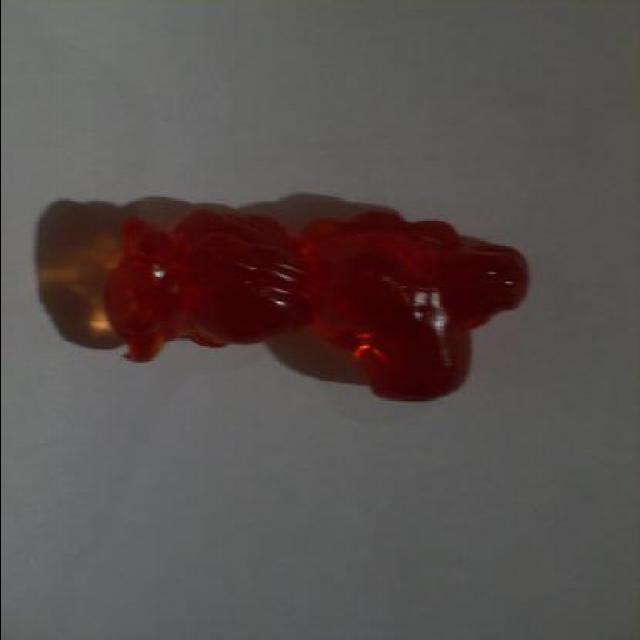Candy: (36, 172, 456, 404)
